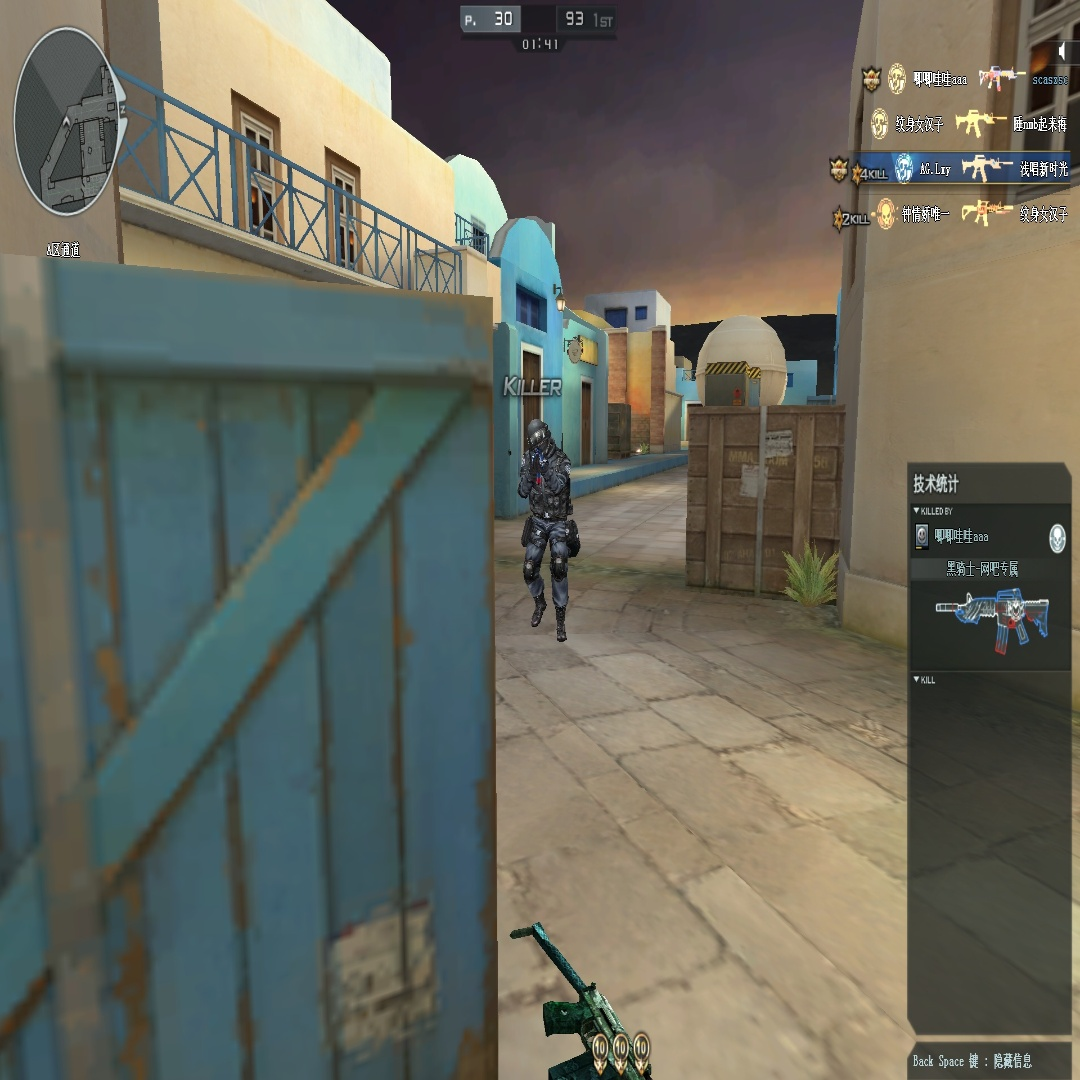p: (518, 417, 576, 644)
